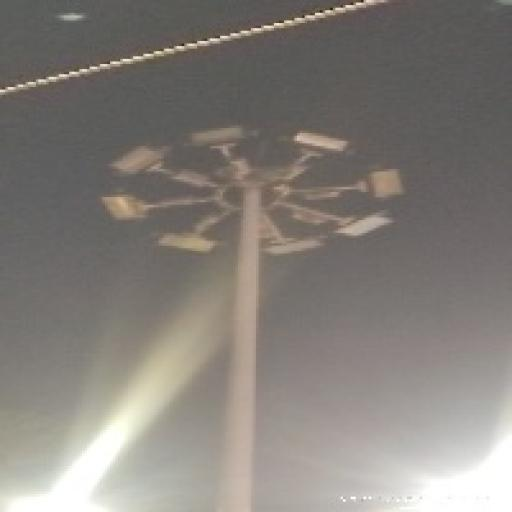Not Working: (278, 115, 353, 167), (177, 120, 258, 162), (102, 135, 173, 182), (331, 201, 397, 251), (151, 224, 229, 264), (360, 152, 410, 212), (95, 185, 159, 228), (258, 231, 326, 264)
